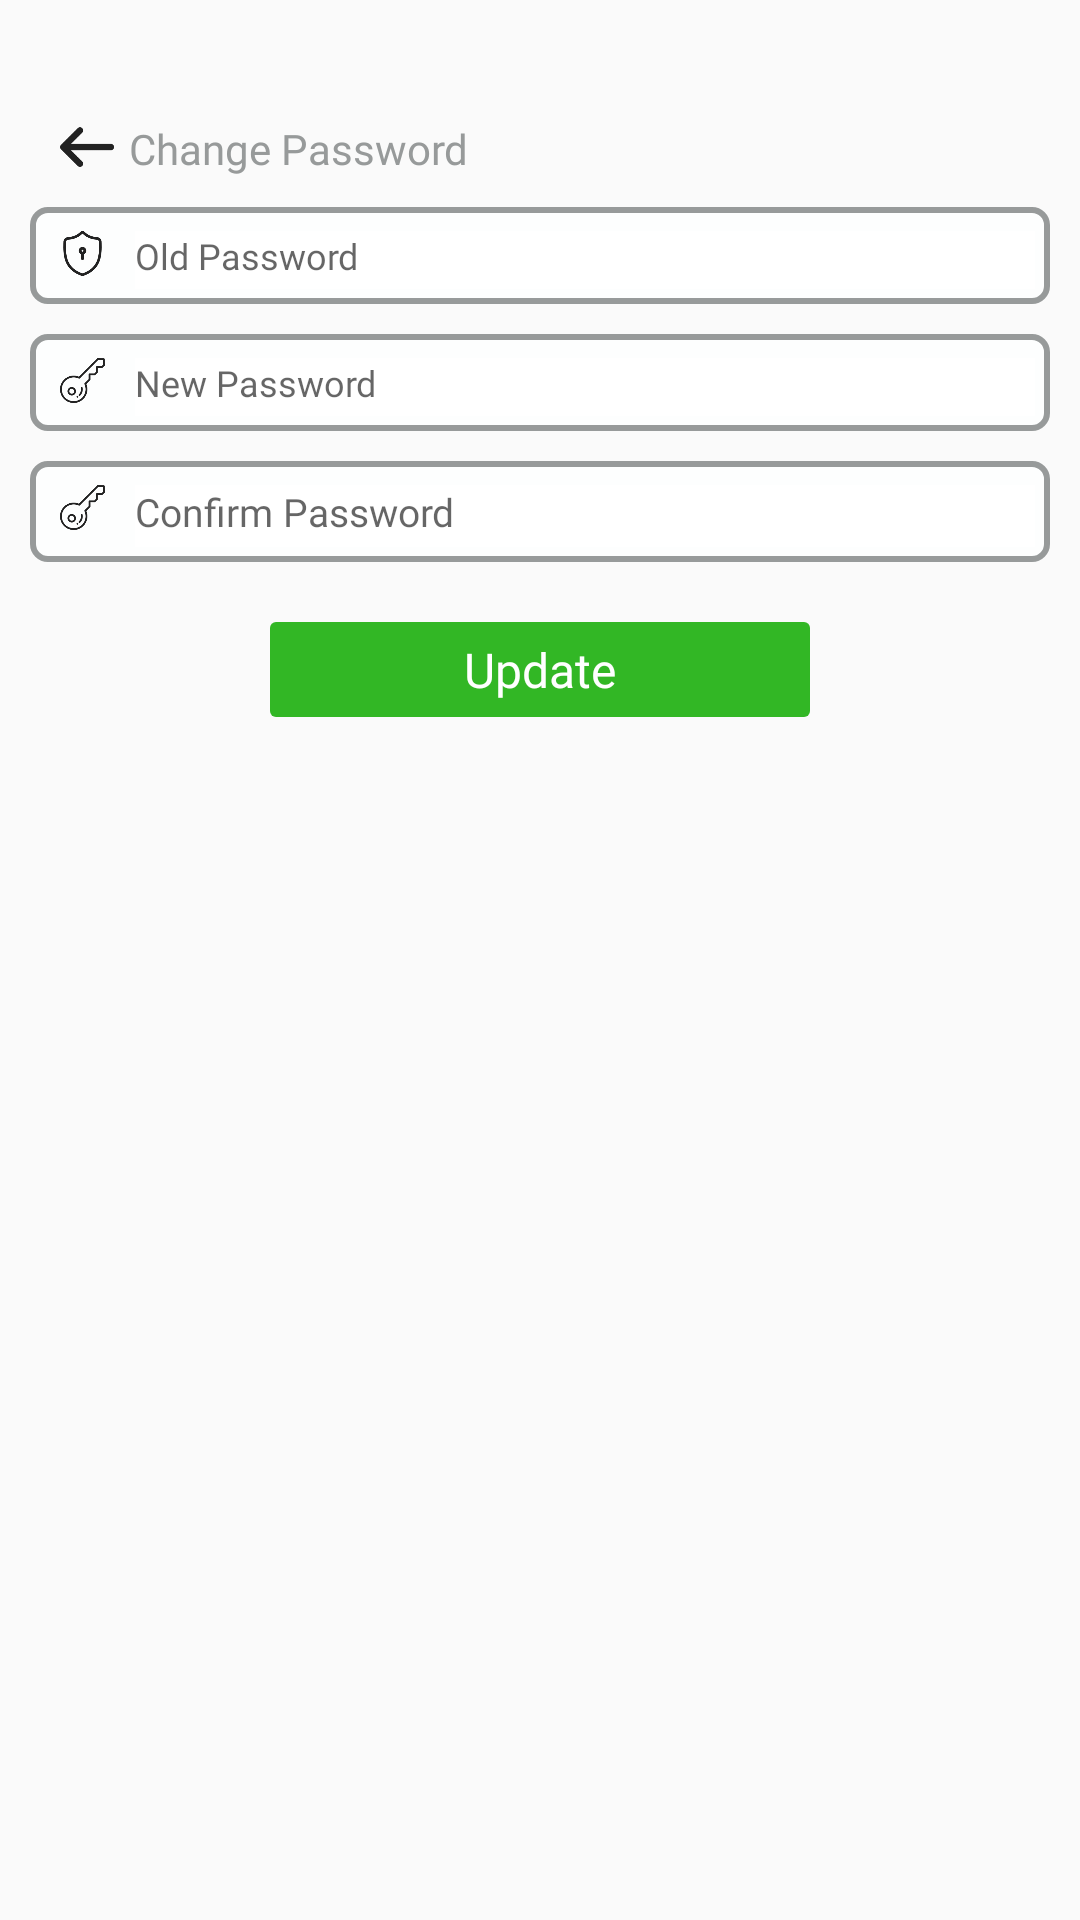

Named icons in this screenshot (1080w x 1920h) and their bounding boxes, bbox=(x1, y1, x2, y2):
backprofile: bbox=(60, 127, 114, 167)
key: bbox=(60, 358, 105, 403), bbox=(60, 485, 105, 530)
